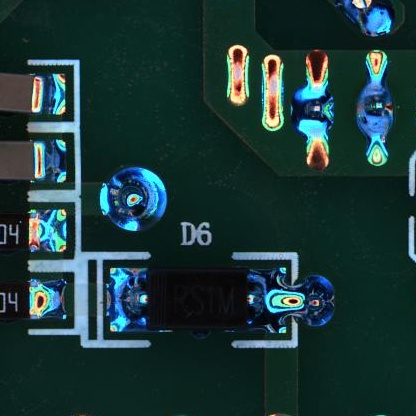spot: (100, 166, 170, 230), (292, 85, 337, 136), (355, 84, 397, 138)
